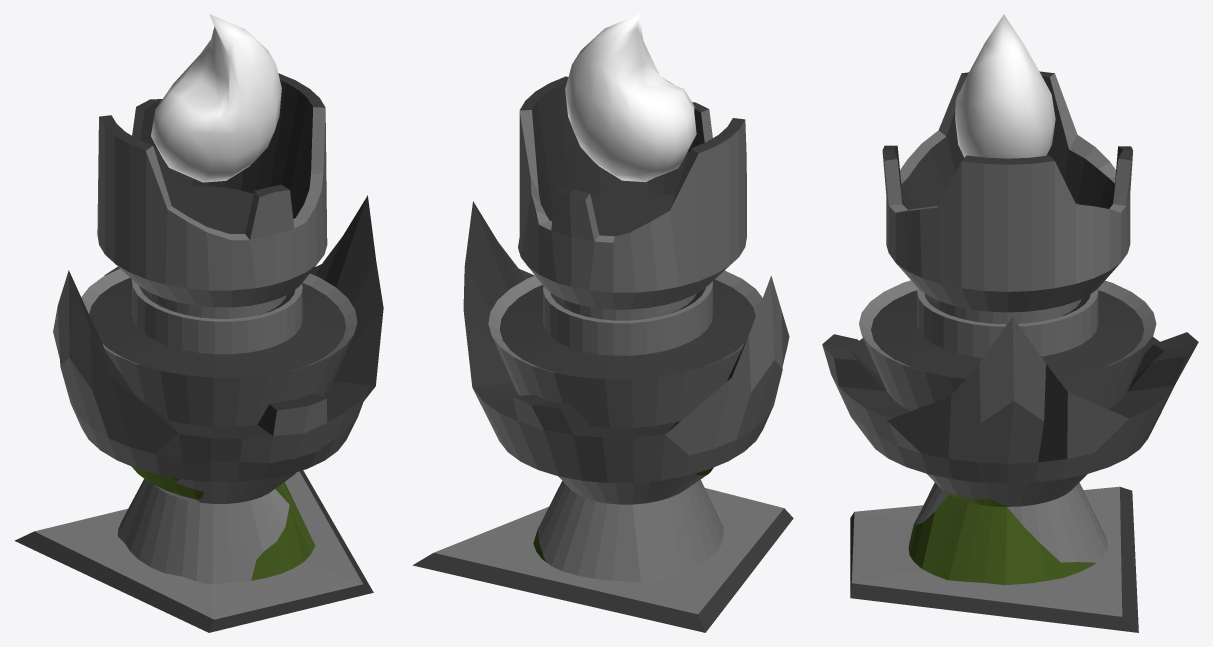
The model's file is statue - water.glb.
The picture shows the model from 3 angles, left to right: view 1: azimuth 30°, elevation 25°; view 2: azimuth 150°, elevation 25°; view 3: azimuth 270°, elevation 25°; orthographic projection.
Parts seen in each view (by area): view 1: Cylinder, Cube; view 2: Cylinder, Cube; view 3: Cylinder, Cube.
Boxes of the visible parts, x1,y1,x2,y2 form: Cylinder: (14,73,383,632); Cube: (151,14,281,182); Cylinder: (412,76,793,632); Cube: (565,14,696,182); Cylinder: (822,71,1198,632); Cube: (955,14,1055,158).
Bounding box in the file's own units: 1.9 × 3.28 × 2.07.
